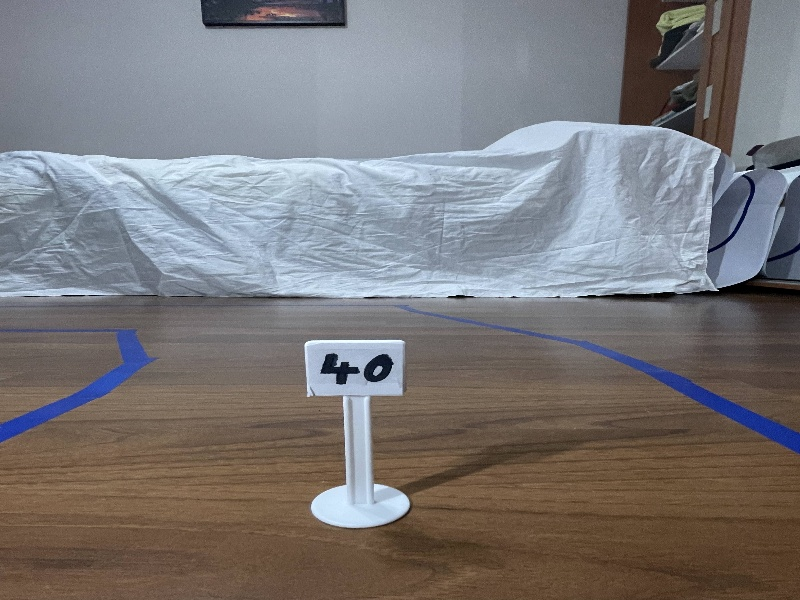viteza_limita_40: (295, 335, 417, 403)
